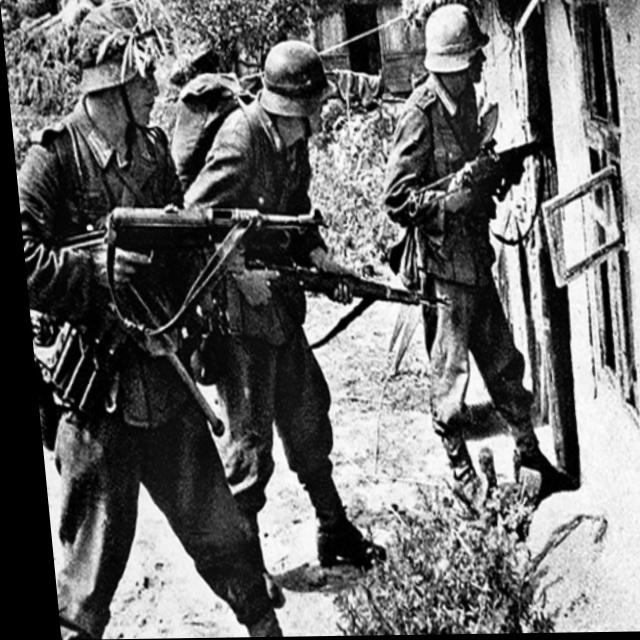other: (7, 25, 233, 623), (160, 17, 378, 581), (379, 0, 557, 459)
